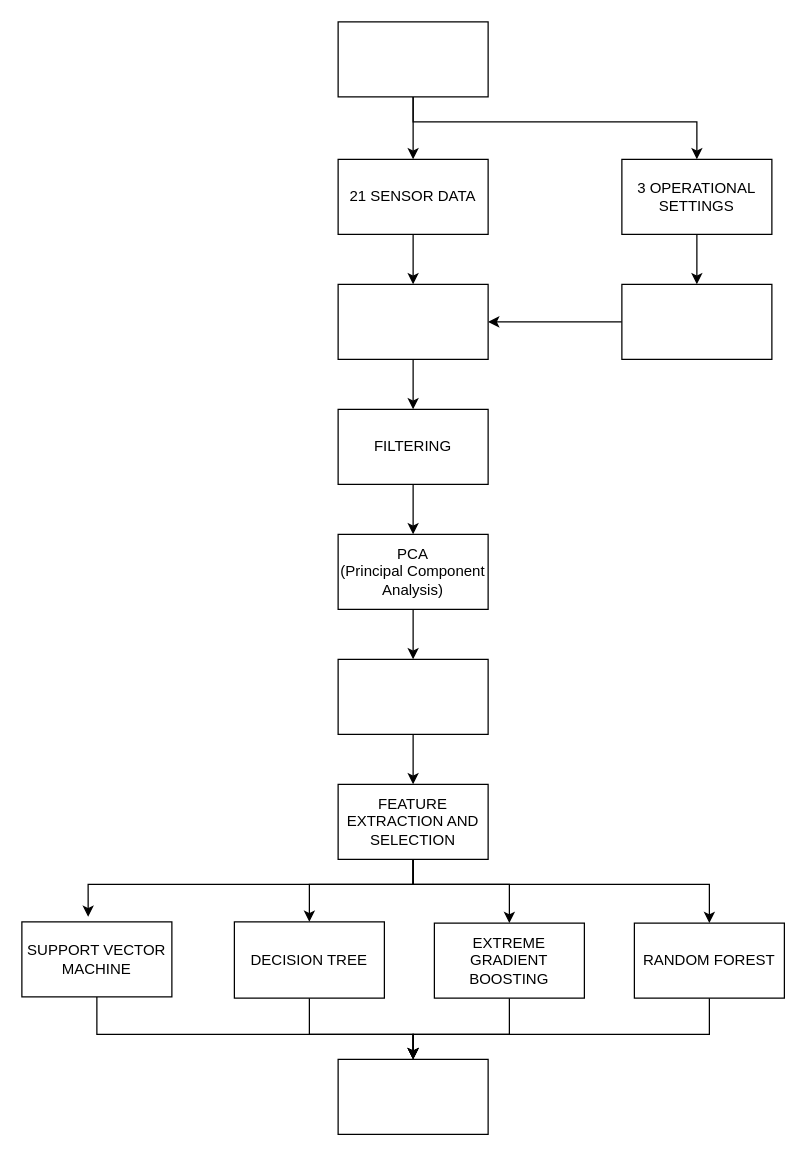
This 806x1156 diagram has some shape labels left out. Each missing label, with the centre of its shape:
"CLUSTERING (K-Means)" belongs at [696,321].
"EVALUATION" belongs at [412,1096].
"LOG TRANSFORM" belongs at [412,696].
"RAW DATA" belongs at [412,59].
"STANDARDIZATION" belongs at [412,321].
